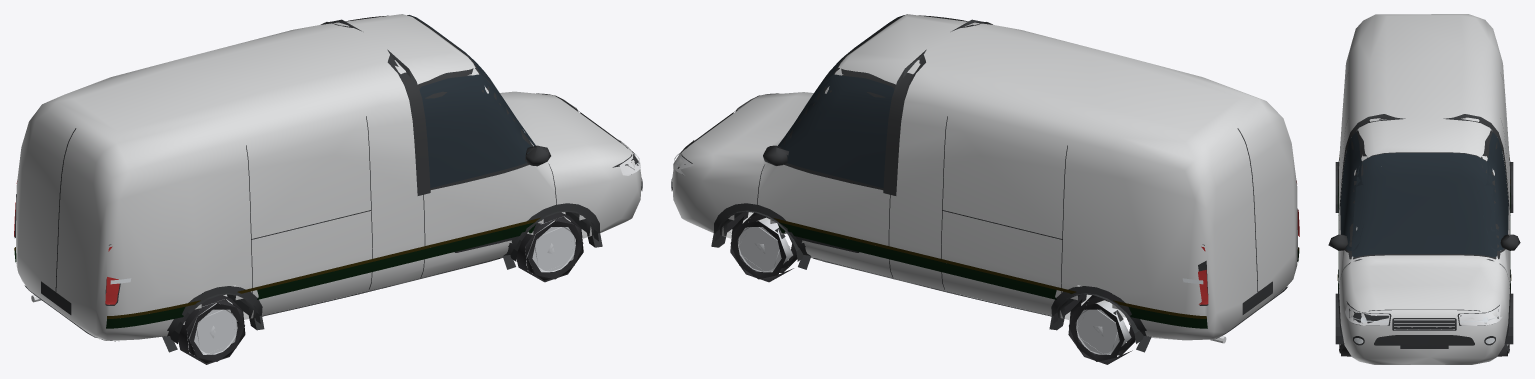
Rendered from pro_loc_far.glb.
3 renders of one model, left to right at view 1: azimuth 30°, elevation 25°; view 2: azimuth 150°, elevation 25°; view 3: azimuth 270°, elevation 25°, orthographic. The views are drawn at different scales.
Visible parts, largest first — view 1: Body, Glass-1, ProStripe-1, WheelRR, WheelFR, Bpillar-1, ProAccent-1, ArchTrim-1.001, ArchTrim-1, WinFrame-1, ArchLiner.003, ArchLiner.001; view 2: Body, Glass1, ProStripe1, WheelRL, WheelFL, Bpillar1, ProAccent1, ArchTrim1.001, ArchTrim1, WinFrame1, ArchLiner.002, ArchLiner; view 3: Body, Windshield, Glass1, Glass-1, Intake, HeadReflector, Grille, WsFrame, HeadBezel, Bpillar-1, Bpillar1, ArchLiner (+8 smaller).
Part boxes in pixels (<box>): Body: <box>16,14,641,340</box>; Glass-1: <box>419,74,535,188</box>; ProStripe-1: <box>106,222,535,328</box>; WheelRR: <box>178,295,245,364</box>; WheelFR: <box>516,212,583,282</box>; Bpillar-1: <box>387,49,430,195</box>; ProAccent-1: <box>107,217,541,318</box>; ArchTrim-1.001: <box>162,286,264,352</box>; ArchTrim-1: <box>502,203,602,269</box>; WinFrame-1: <box>418,68,532,189</box>; ArchLiner.003: <box>170,293,260,343</box>; ArchLiner.001: <box>509,210,598,261</box>; Body: <box>672,14,1297,340</box>; Glass1: <box>778,74,894,187</box>; ProStripe1: <box>778,222,1207,328</box>; WheelRL: <box>1068,295,1135,364</box>; WheelFL: <box>730,212,797,282</box>; Bpillar1: <box>883,49,926,195</box>; ProAccent1: <box>771,218,1206,318</box>; ArchTrim1.001: <box>1049,286,1151,352</box>; ArchTrim1: <box>711,203,811,269</box>; WinFrame1: <box>784,68,895,189</box>; ArchLiner.002: <box>1053,293,1143,343</box>; ArchLiner: <box>715,210,804,261</box>; Body: <box>1338,14,1510,364</box>; Windshield: <box>1351,153,1497,257</box>; Glass1: <box>1476,132,1508,250</box>; Glass-1: <box>1340,132,1363,250</box>; Intake: <box>1374,335,1474,345</box>; HeadReflector: <box>1345,305,1502,325</box>; Grille: <box>1392,318,1456,330</box>; WsFrame: <box>1348,152,1500,259</box>; HeadBezel: <box>1346,301,1499,325</box>; Bpillar-1: <box>1339,114,1405,209</box>; Bpillar1: <box>1443,114,1509,209</box>; ArchLiner: <box>1505,293,1513,344</box>.
Size of the model in its own units: 5.62 by 2.29 by 2.15.
